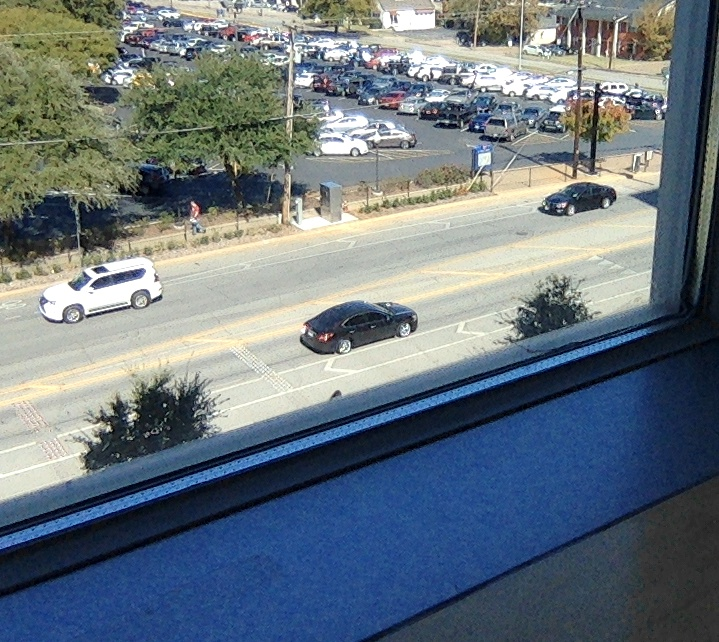car: (300, 300, 419, 355)
